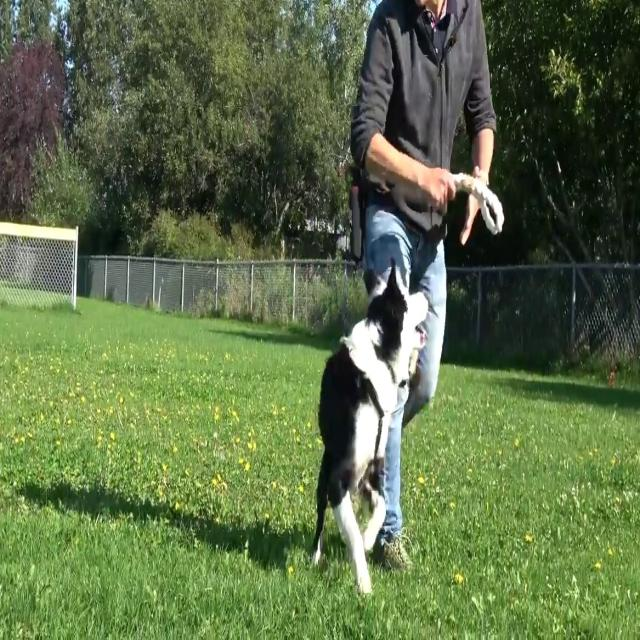Unleashed_Dog: (312, 258, 446, 596)
